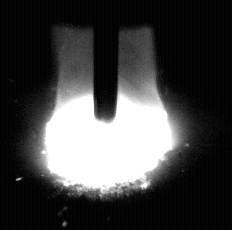arame: (94, 0, 117, 124)
poca: (45, 0, 173, 230)
